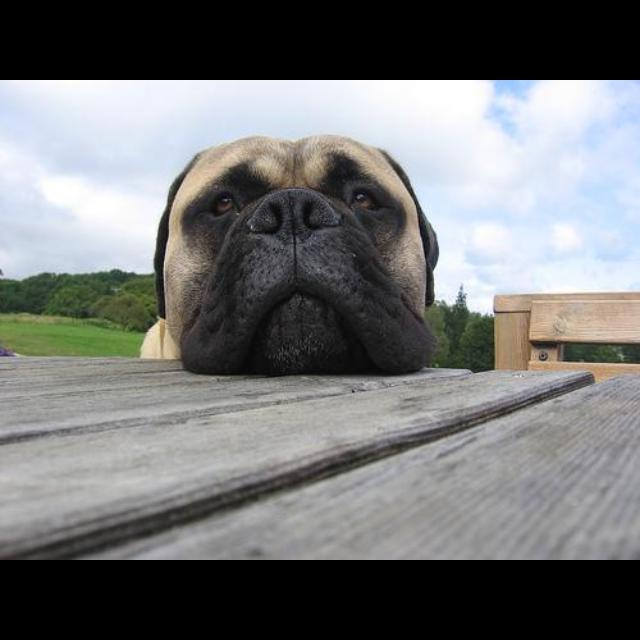bullmastiff: (140, 134, 440, 377)
